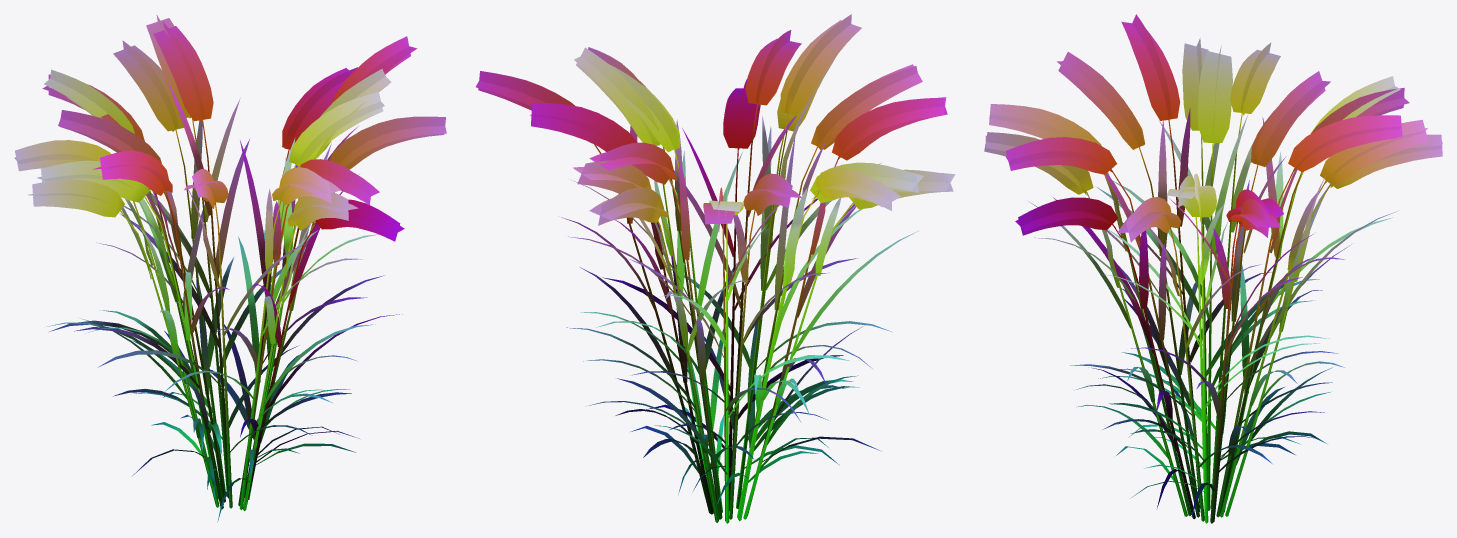
File: Rice_AlmostRipe_B_HD.fbx
The picture shows the model from 3 angles, left to right: view 1: azimuth 30°, elevation 25°; view 2: azimuth 150°, elevation 25°; view 3: azimuth 270°, elevation 25°; orthographic projection. The views are drawn at different scales.
Parts seen in each view (by area): view 1: Rice_AlmostRipe_B_HD_LOD0; view 2: Rice_AlmostRipe_B_HD_LOD0; view 3: Rice_AlmostRipe_B_HD_LOD0.
Boxes of the visible parts, x1,y1,x2,y2 form: Rice_AlmostRipe_B_HD_LOD0: (14, 15, 446, 521); Rice_AlmostRipe_B_HD_LOD0: (476, 14, 955, 523); Rice_AlmostRipe_B_HD_LOD0: (984, 14, 1442, 523).
Size of what is drawn, in the model's own units: 1.1 by 1.05 by 1.04.
